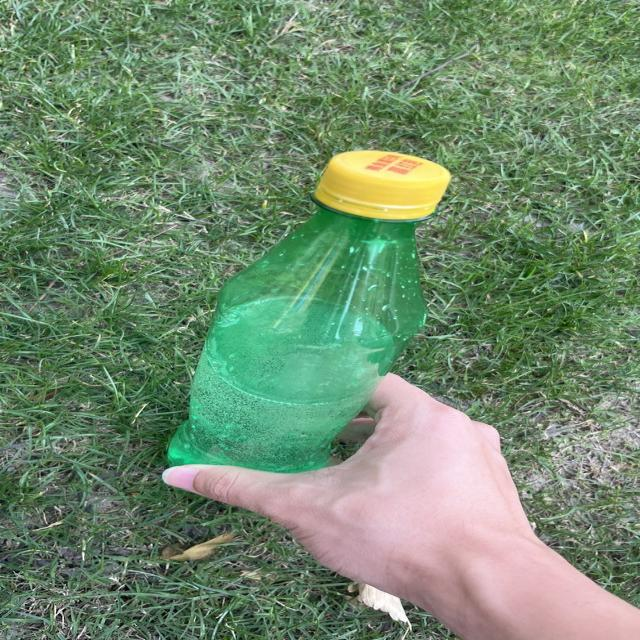medium: (168, 150, 449, 472)
